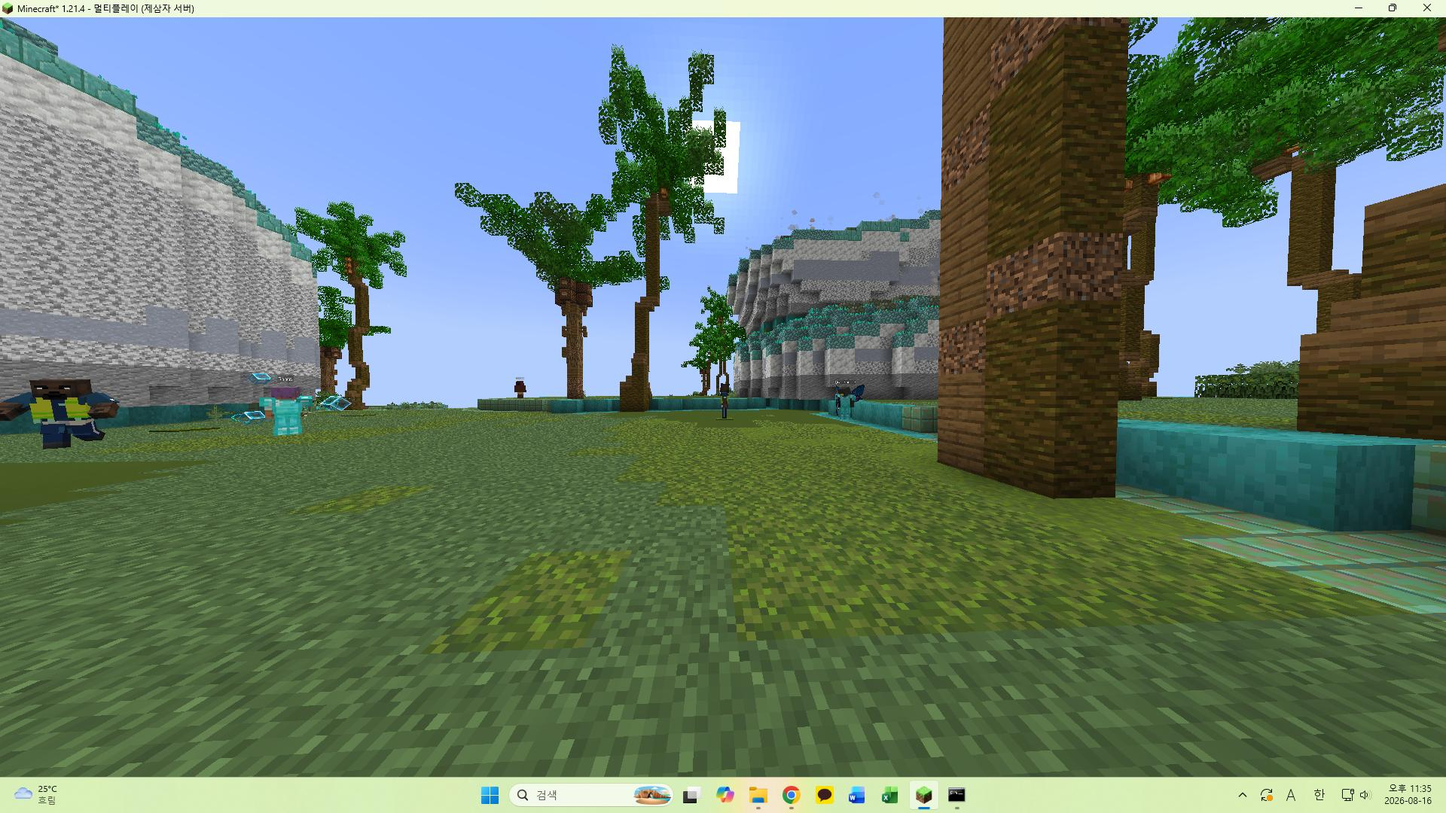Guardian: (0, 379, 117, 449), (718, 382, 731, 419)
